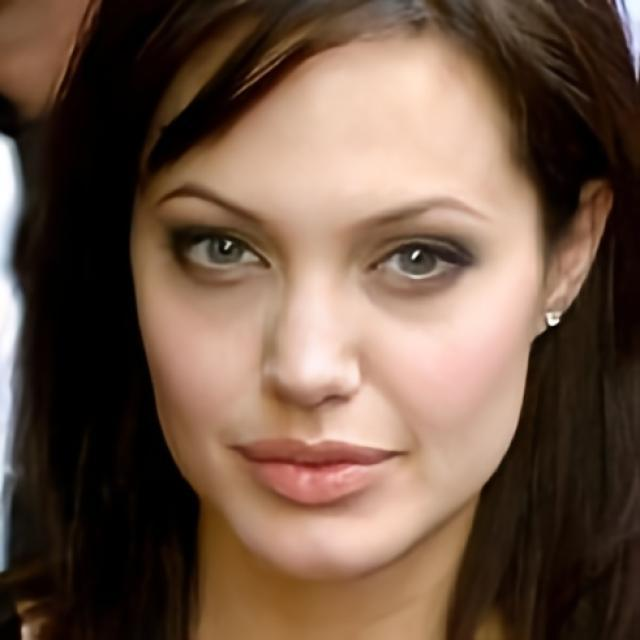content: (126, 0, 542, 576)
